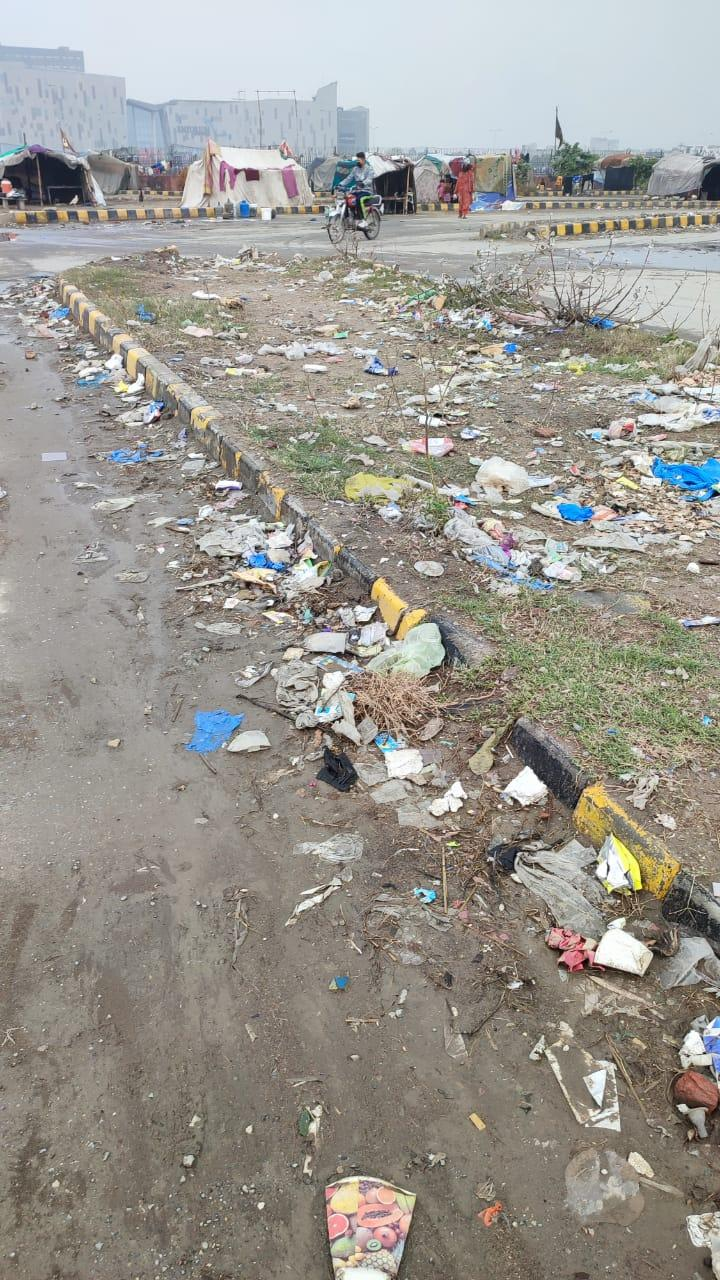garbage: (258, 348, 720, 839)
